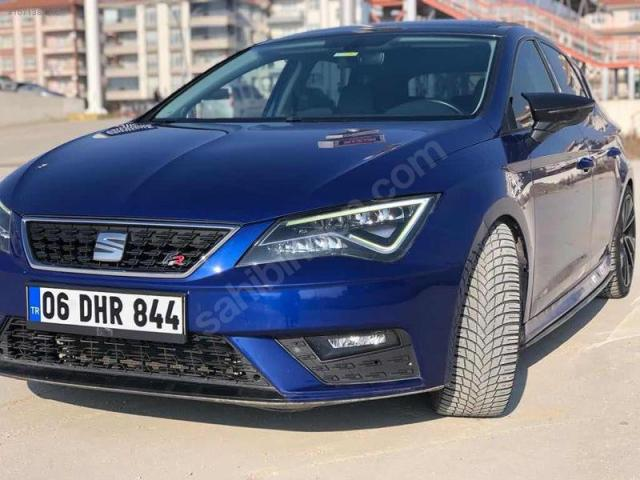plaka: (27, 287, 184, 335)
